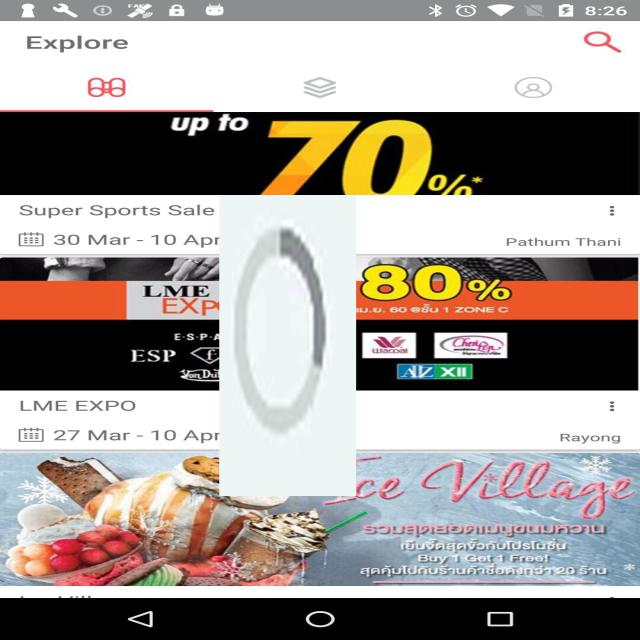misdirection: (219, 195, 356, 496)
